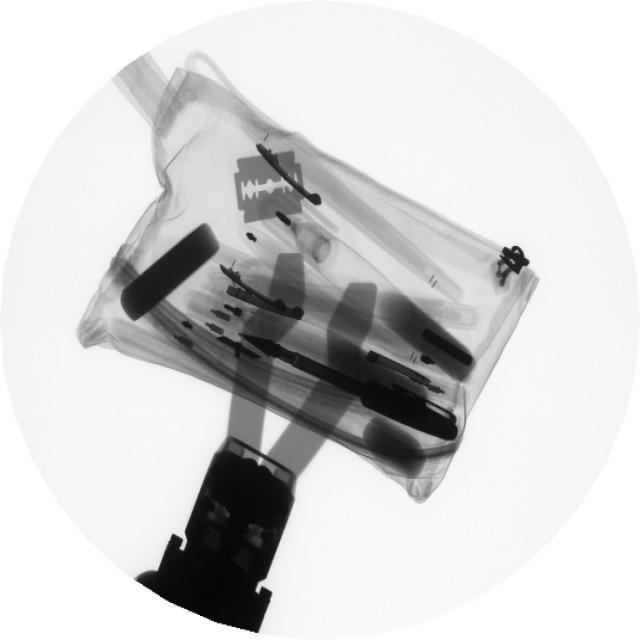BLADE: (227, 141, 316, 233)
